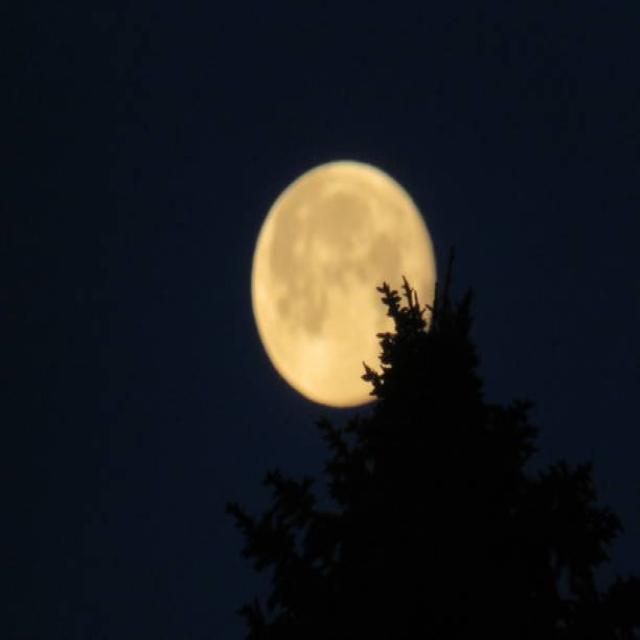moon: (247, 150, 441, 412)
